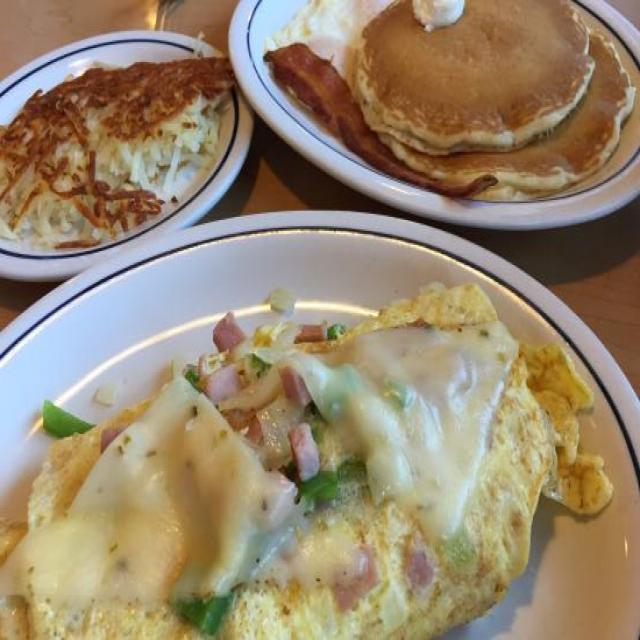Omelette: (1, 277, 619, 638)
Pancakes: (368, 0, 636, 197)
